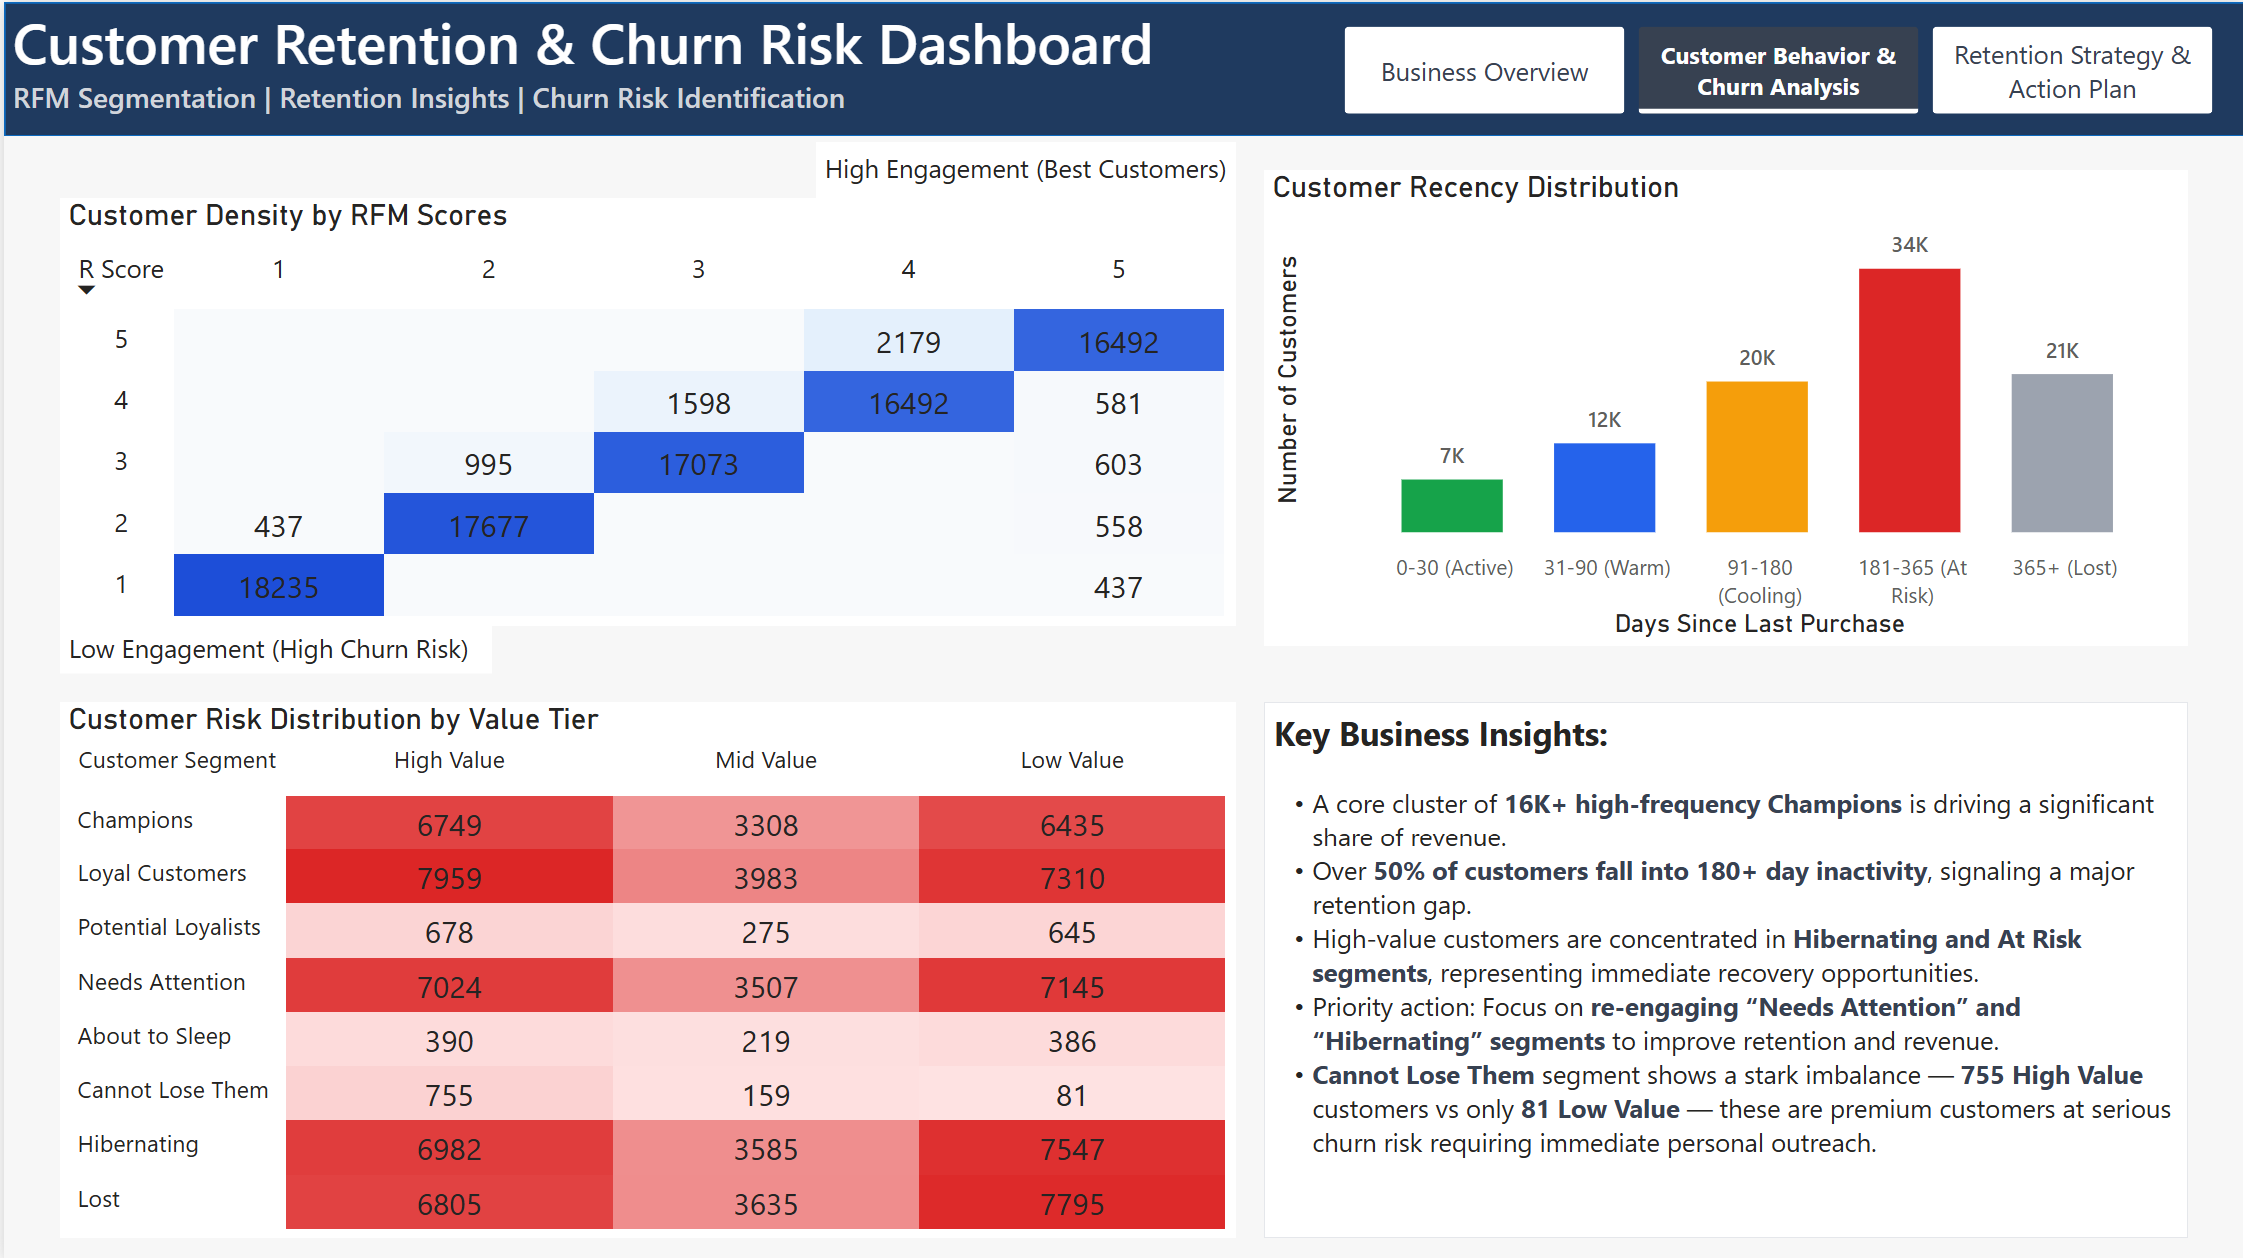

This screenshot's page, from the dashboard's own definition file:
{"tool":"powerbi","page":{"name":"Customer Behavior & Churn Analysis","canvas":[1280,720],"ordinal":1},"visuals":[{"type":"shape","box":[0,0,1280.9,77],"z":0},{"type":"textbox","box":[0,1.2,740,78.8],"z":1000},{"type":"textbox","box":[720,400,528,307],"z":2000},{"type":"pivotTable","title":"Customer Density by RFM Scores","fields":{"Rows":["vw_RFM_Segments.R_score"],"Columns":["vw_RFM_Segments.F_score"],"Values":["_Calculations.Total Customers"]},"box":[32,112,672,245],"z":3000},{"type":"clusteredColumnChart","title":"Customer Recency Distribution","fields":{"Y":["_Calculations.Total Customers"],"Category":["vw_RFM_Segments.Recency_Group"]},"box":[720,96,528,272],"z":4000},{"type":"textbox","box":[464,80,240,32],"z":5000},{"type":"textbox","box":[32,354,247,30],"z":6000},{"type":"pivotTable","title":"Customer Risk Distribution by Value Tier","fields":{"Values":["_Calculations.Total Customers"],"Rows":["Dim_Segment.customer_segment"],"Columns":["Value tier rank.value_tier"]},"box":[32,400,672,307],"z":7000},{"type":"pageNavigator","box":[765.6,14.4,498.9,50],"z":8000}]}

Visuals, with their boxes in screenshot pixels (x1, y1, x2, y2), scaled from the page's 1280x720 canvas onto the 2243x1258 screenshot:
shape: (left=0, top=0, right=2242, bottom=135)
textbox: (left=0, top=2, right=1297, bottom=140)
textbox: (left=1262, top=699, right=2187, bottom=1235)
"Customer Density by RFM Scores" pivotTable: (left=56, top=196, right=1234, bottom=624)
"Customer Recency Distribution" clusteredColumnChart: (left=1262, top=168, right=2187, bottom=643)
textbox: (left=813, top=140, right=1234, bottom=196)
textbox: (left=56, top=619, right=489, bottom=671)
"Customer Risk Distribution by Value Tier" pivotTable: (left=56, top=699, right=1234, bottom=1235)
pageNavigator: (left=1342, top=25, right=2216, bottom=113)
